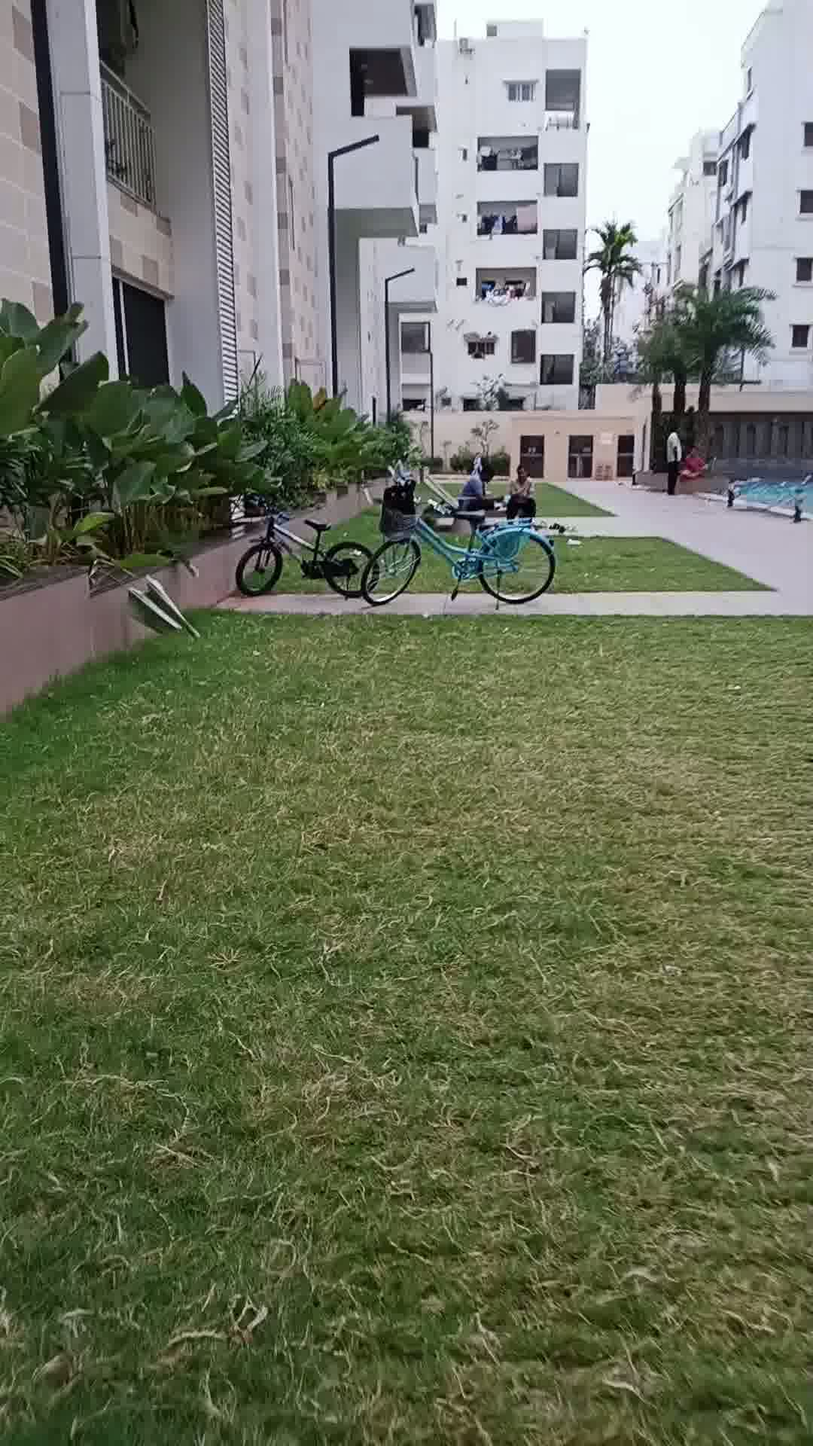bicycle: (361, 467, 566, 631), (235, 493, 379, 614)
person: (508, 460, 537, 517), (466, 469, 499, 514)
tree: (678, 262, 754, 463), (638, 294, 714, 450), (581, 213, 632, 385), (663, 418, 680, 498)
